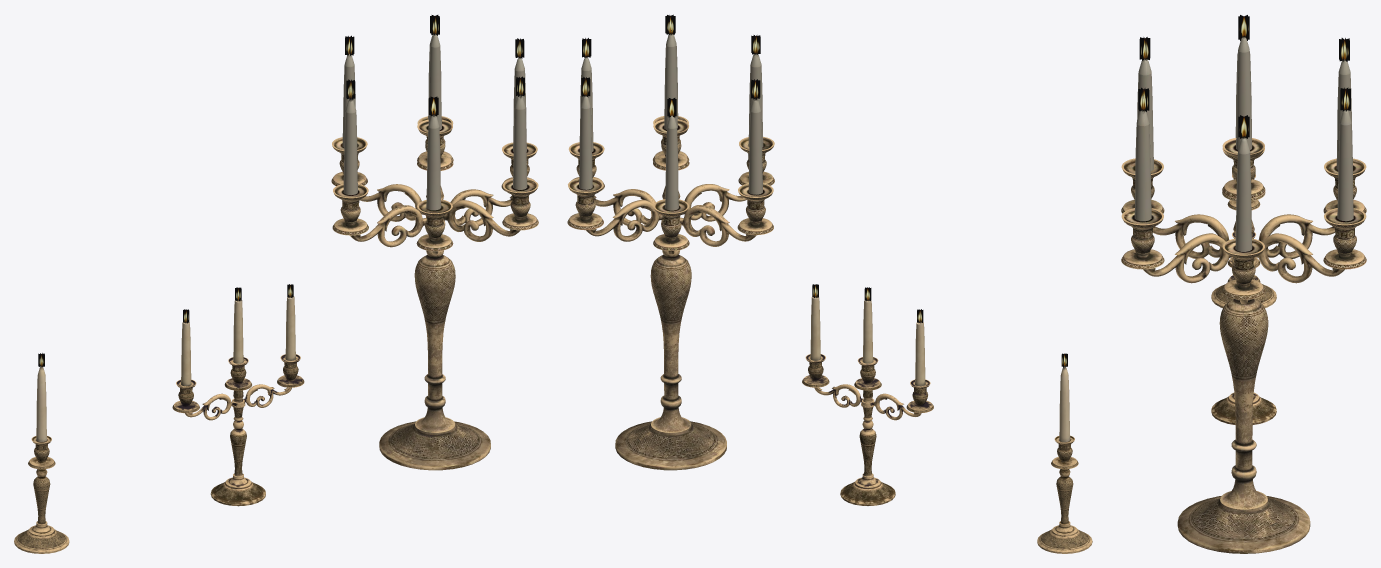
Rendered from brass_candleholders.glb.
3 views of the same model, side by side, from view 1: azimuth 30°, elevation 25°; view 2: azimuth 150°, elevation 25°; view 3: azimuth 270°, elevation 25° (orthographic). The views are drawn at different scales.
Parts seen in each view (by area): view 1: brass_candleholder_03, brass_candleholder_02, brass_candleholder_01; view 2: brass_candleholder_03, brass_candleholder_02, brass_candleholder_01; view 3: brass_candleholder_03, brass_candleholder_02, brass_candleholder_01.
Boxes of the visible parts, left/top/right/bottom form: brass_candleholder_03: left=38, top=15, right=538, bottom=470; brass_candleholder_02: left=172, top=295, right=304, bottom=506; brass_candleholder_01: left=14, top=366, right=69, bottom=553; brass_candleholder_03: left=567, top=14, right=1067, bottom=470; brass_candleholder_02: left=802, top=296, right=933, bottom=505; brass_candleholder_01: left=1037, top=363, right=1092, bottom=553; brass_candleholder_03: left=1121, top=15, right=1366, bottom=553; brass_candleholder_02: left=1211, top=232, right=1276, bottom=424; brass_candleholder_01: left=1211, top=174, right=1276, bottom=307.
Bounding box in the file's own units: 1.05 × 0.8353 × 0.3647.
5 materials, 5 textured.
